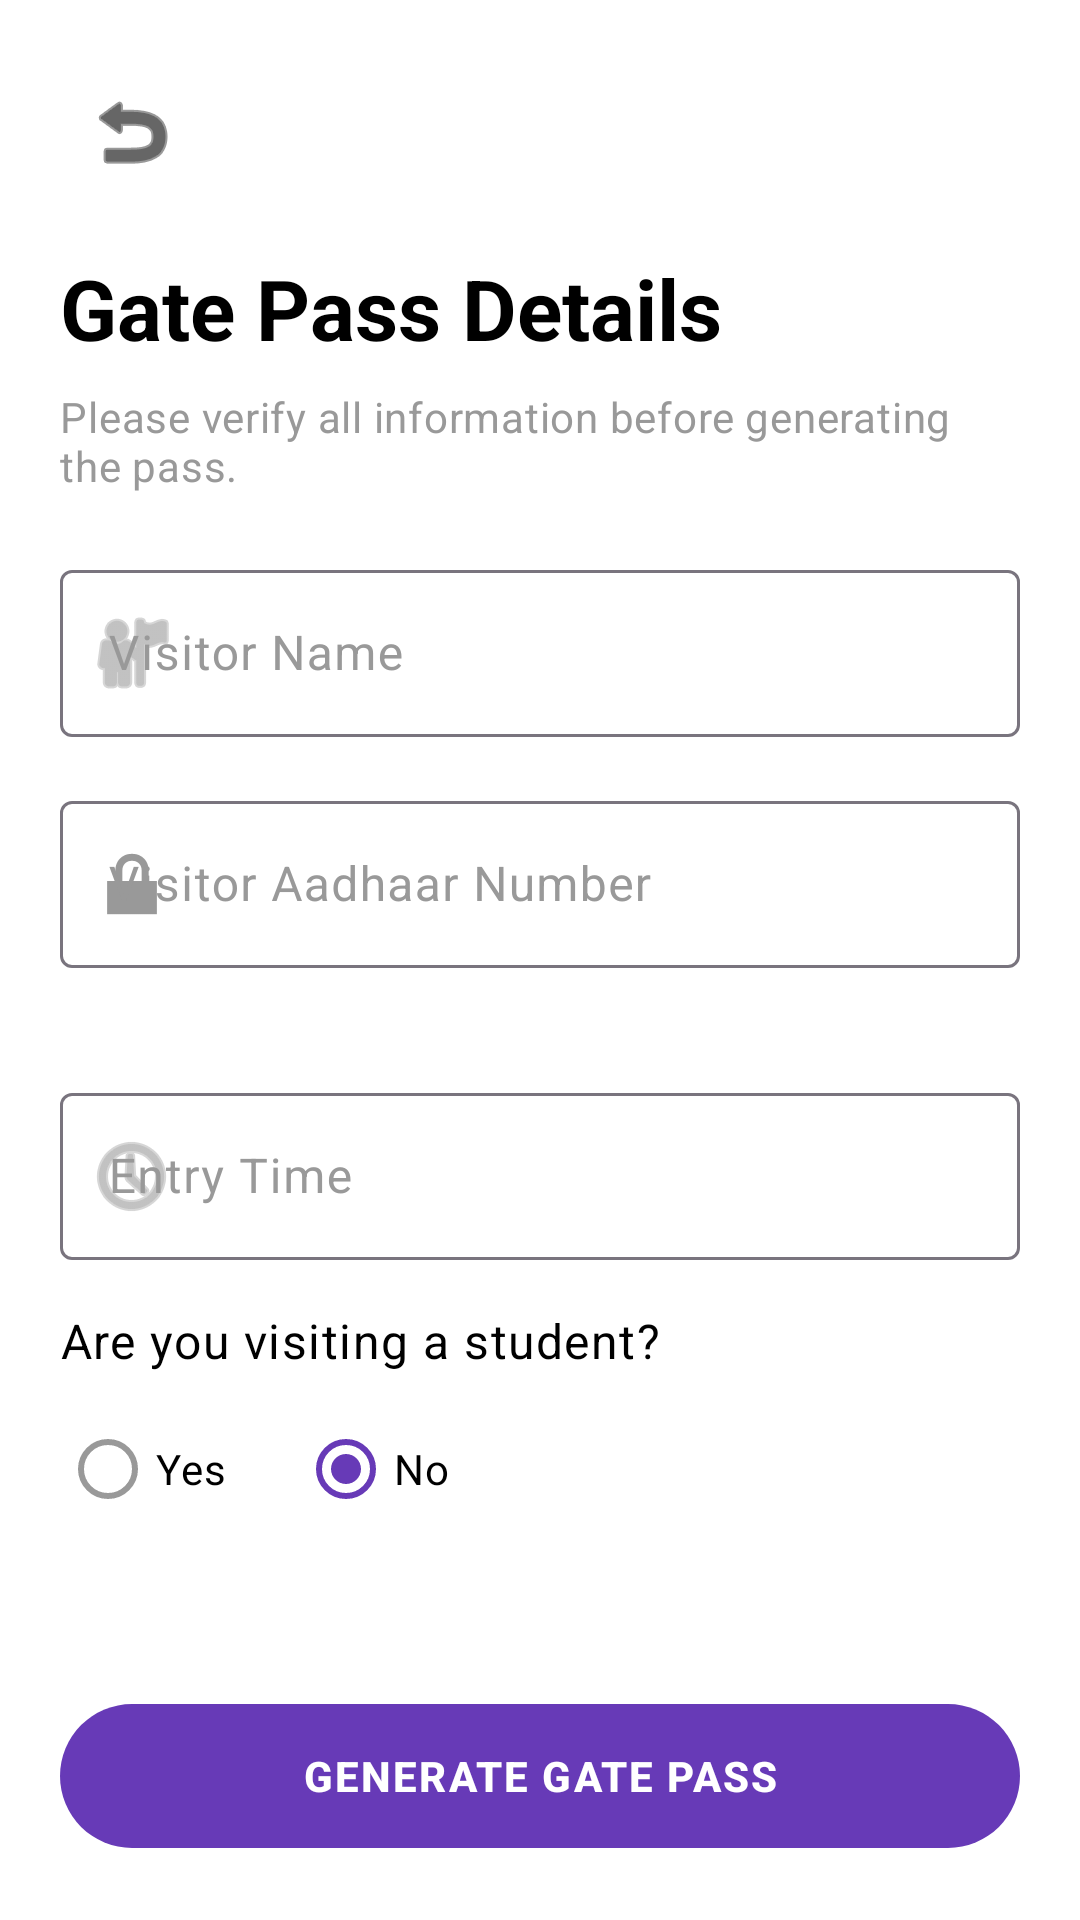

Screen size 1080 × 1920. Icon name, then its box in pixels as (x1, y1, x2, y2):
Back: (99, 101, 168, 164)
